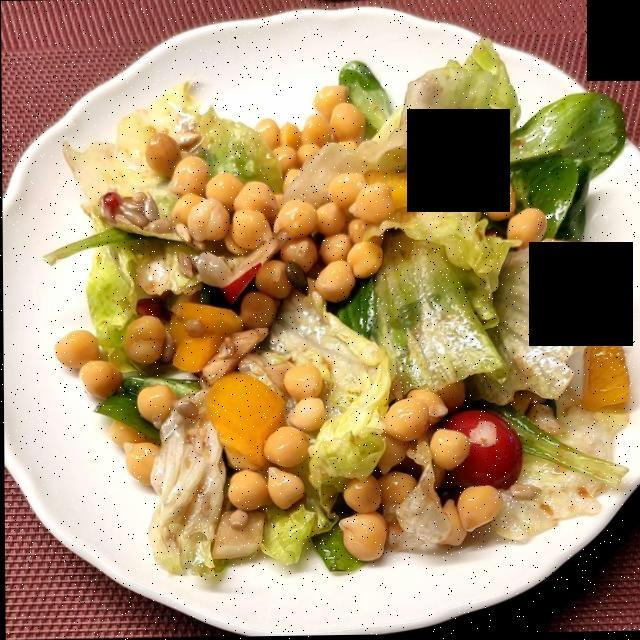chickpeas: (61, 80, 544, 575)
salad: (80, 57, 591, 601)
tomato: (454, 416, 524, 483)
